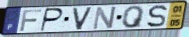F: (18, 8, 43, 32)
N: (91, 5, 118, 31)
P: (39, 7, 65, 32)
Q: (121, 5, 146, 29)
S: (146, 4, 168, 29)
V: (72, 6, 94, 31)
